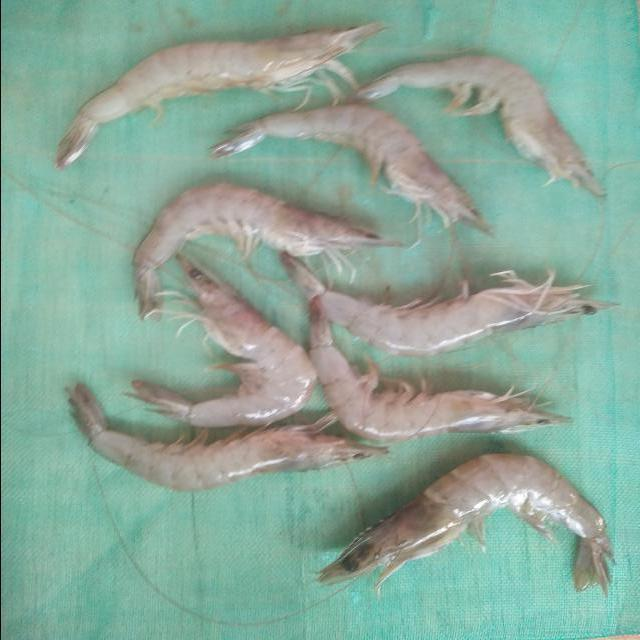shrimp: (54, 21, 384, 169), (318, 454, 615, 597), (309, 296, 571, 442), (210, 103, 491, 234), (132, 183, 398, 320), (348, 55, 605, 196), (279, 252, 617, 356), (68, 384, 387, 492), (130, 256, 316, 428)
